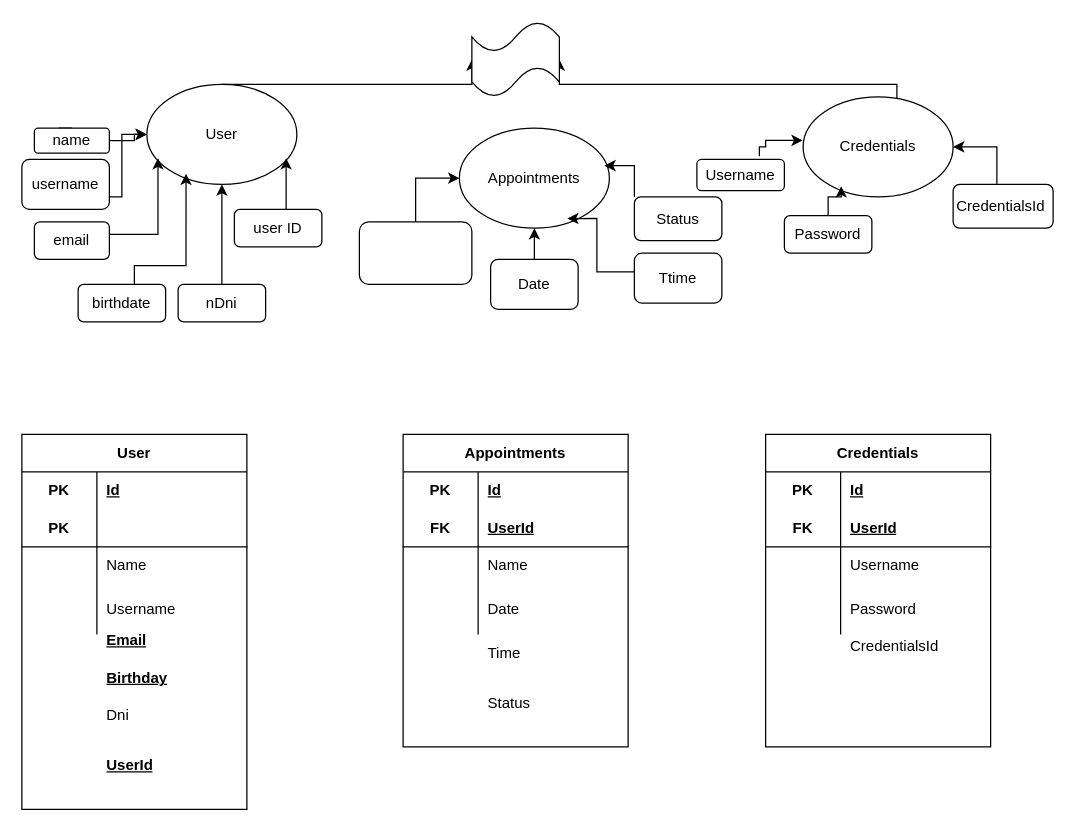
Image size: 1075x831. Some labels were removed from this diagram. The shapes that lost their labels are listed below. From the top down, each one's centre as x and y in pixels, then its label:
At (515,59): "DB".
At (415,252): "Appointments ID".
